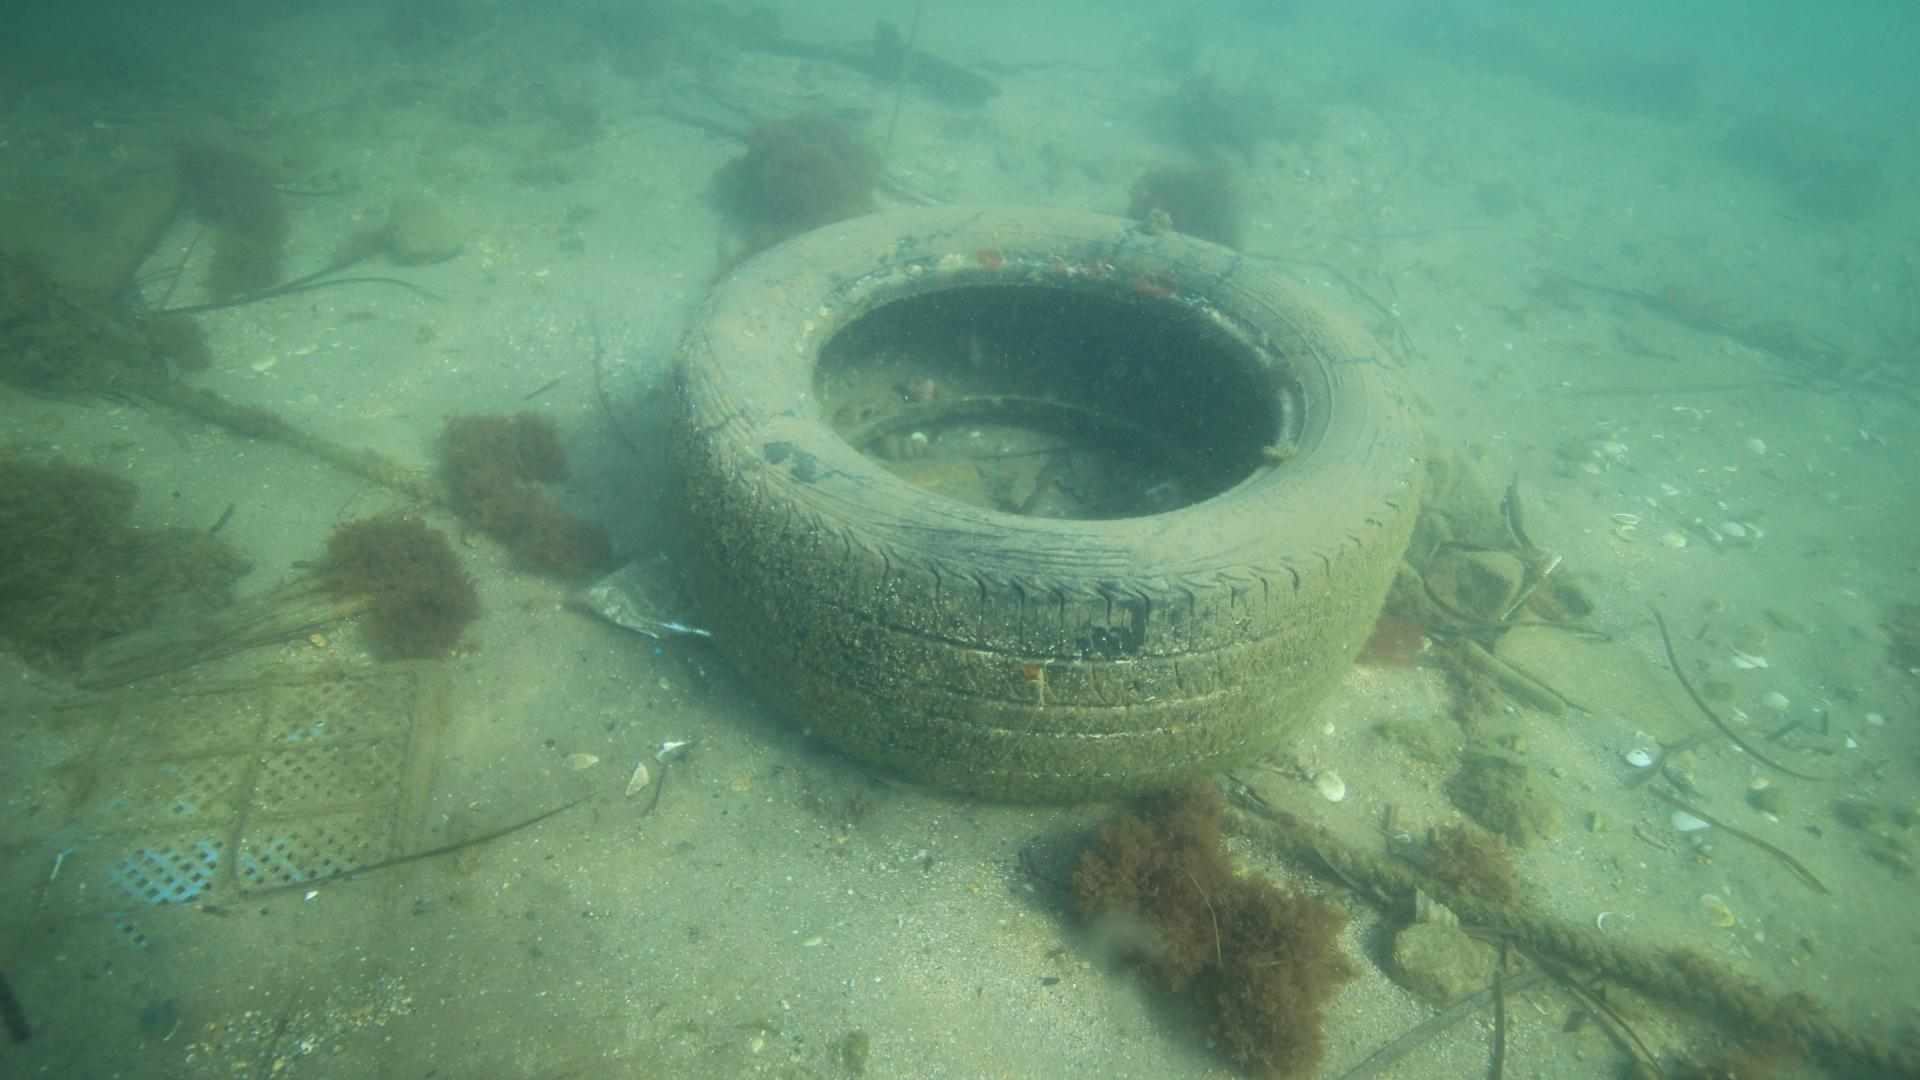rope: (1286, 827, 1920, 1077), (146, 382, 444, 498)
tire: (665, 203, 1429, 807)
